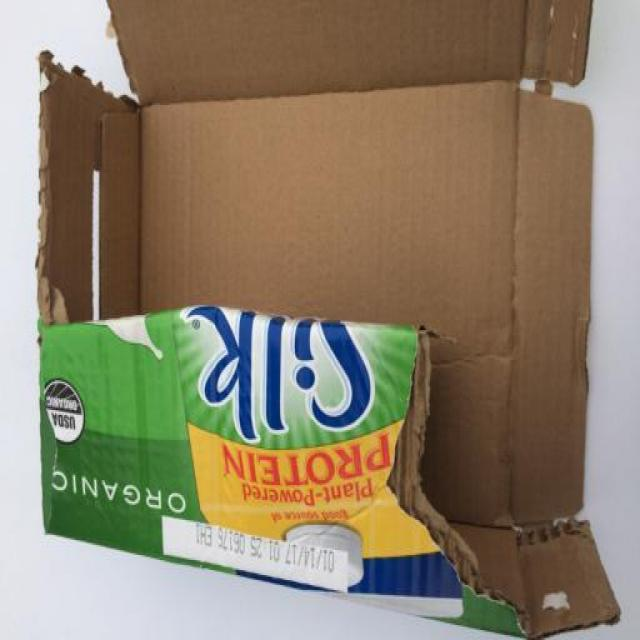cardboard: (35, 8, 597, 598)
